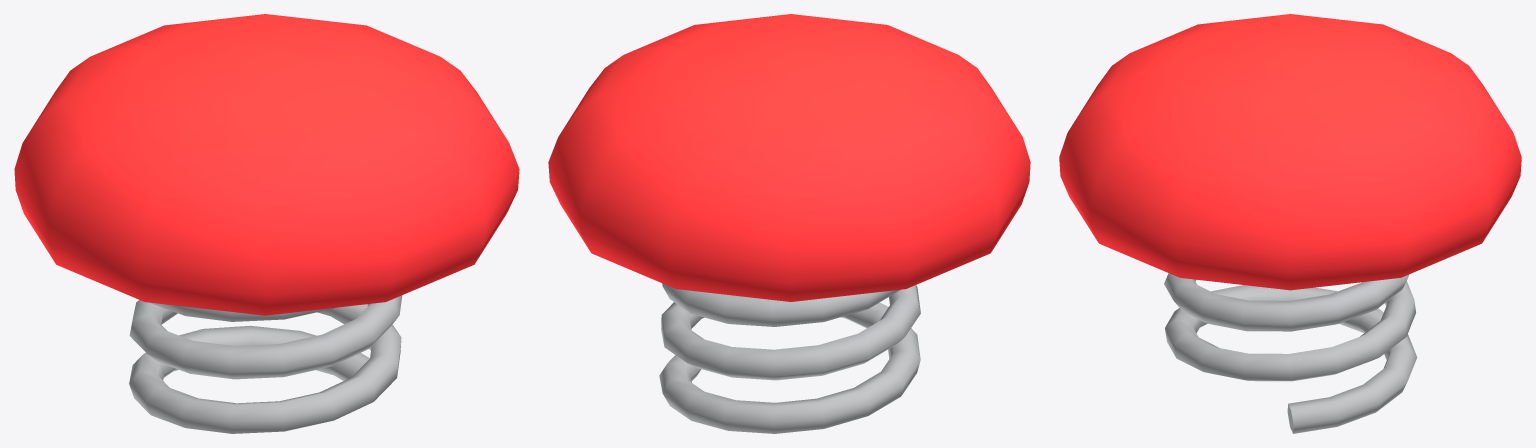
The model's file is trampoline_003.glb.
The picture shows the model from 3 angles, left to right: view 1: azimuth 30°, elevation 25°; view 2: azimuth 150°, elevation 25°; view 3: azimuth 270°, elevation 25°; orthographic projection. The views are drawn at different scales.
Parts seen in each view (by area): view 1: trampoline_003; view 2: trampoline_003; view 3: trampoline_003.
Boxes of the visible parts, x1=… form: trampoline_003: x1=14, y1=14, x2=519, y2=433; trampoline_003: x1=548, y1=14, x2=1030, y2=433; trampoline_003: x1=1059, y1=14, x2=1521, y2=433.
Size of the model in its own units: 2.03 by 1.61 by 2.03.
1 material, 1 textured.
